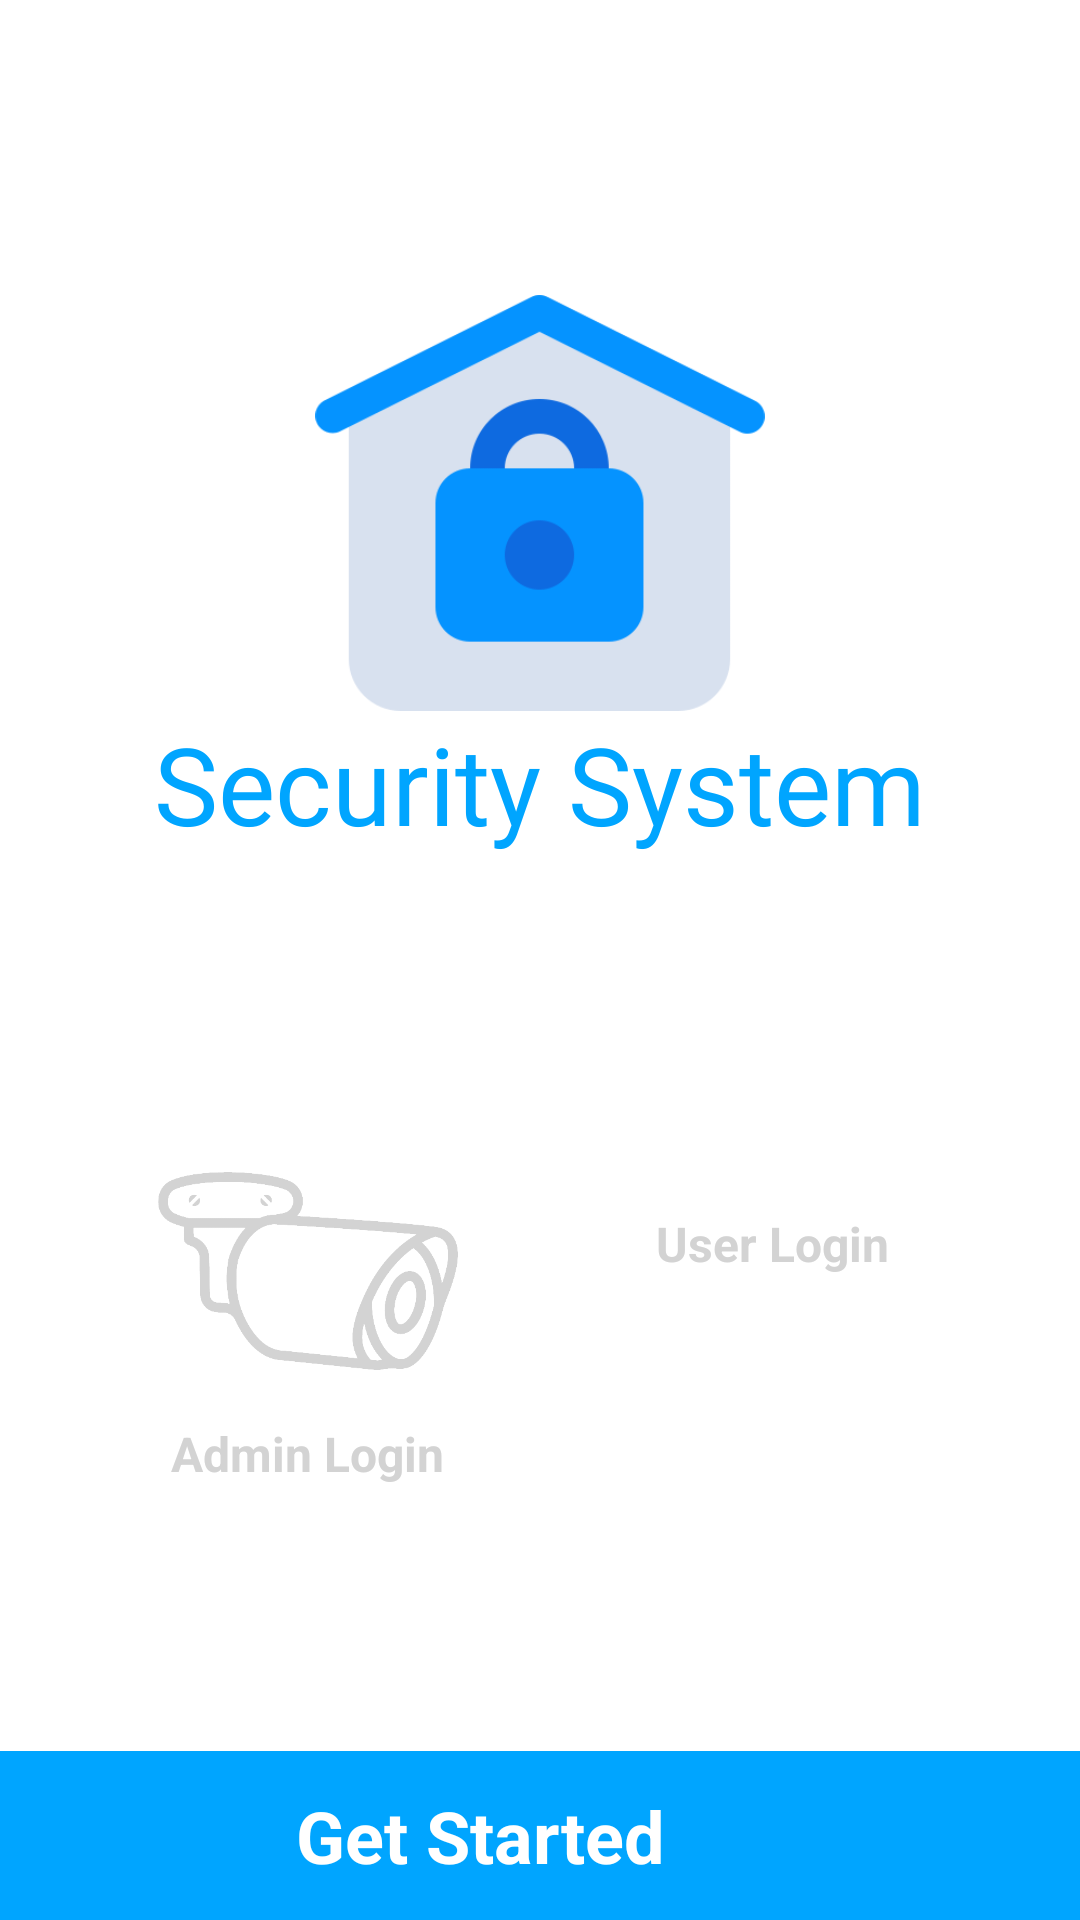

Point at icon controls on the screen. Image size 1080×1920, points as [x,y].
login camera: [308,1271]
